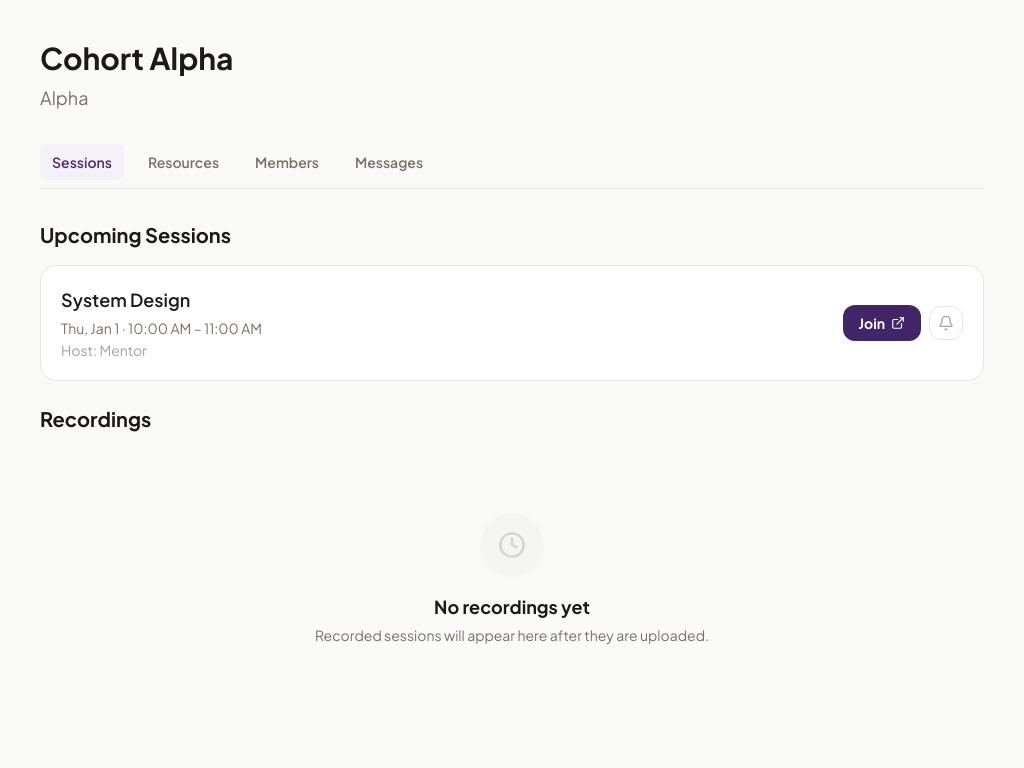
Scenario: member cohort page smoke › loads sessions and opens detail modal on click
expect the heading "Cohort Alpha" is shown: met, box [40,39,234,77]
expect the heading "System Design" is shown: met, box [61,286,190,314]
# Click the session card to open the detail modal
Click the button that starts with "System Design": (126, 300) [40,265,984,381]
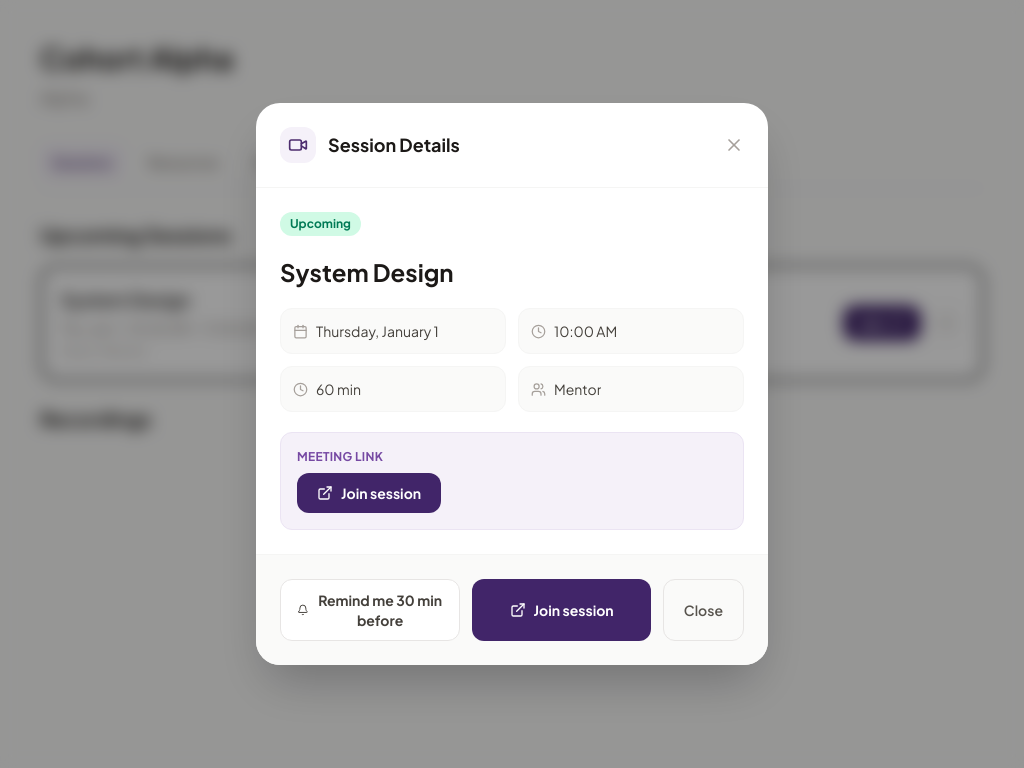
expect the heading "Session Details" is shown: met, box [328,131,460,159]
